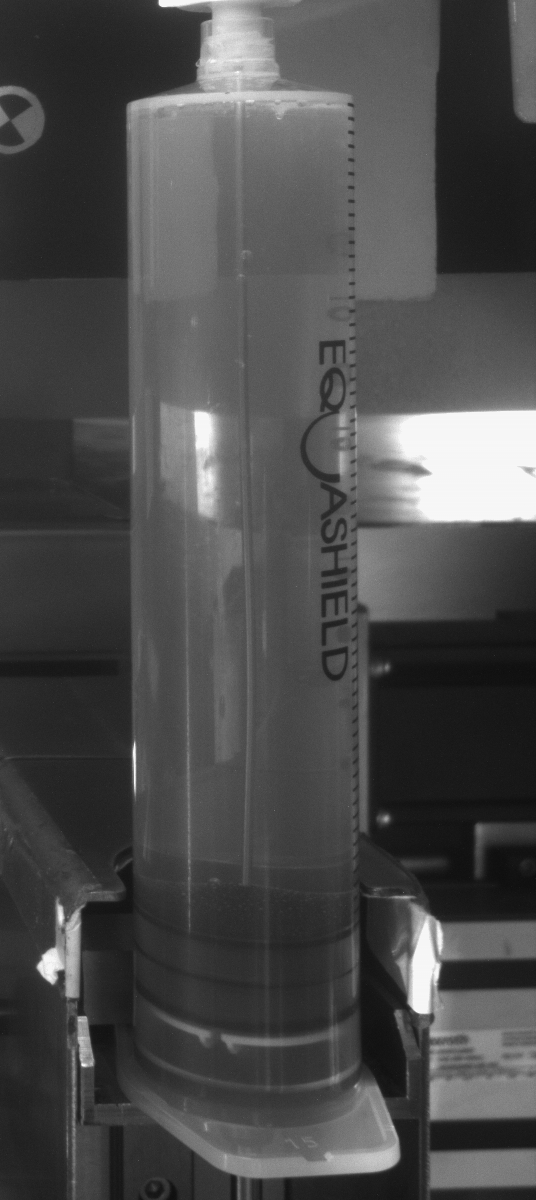piston: (132, 907, 361, 1056)
